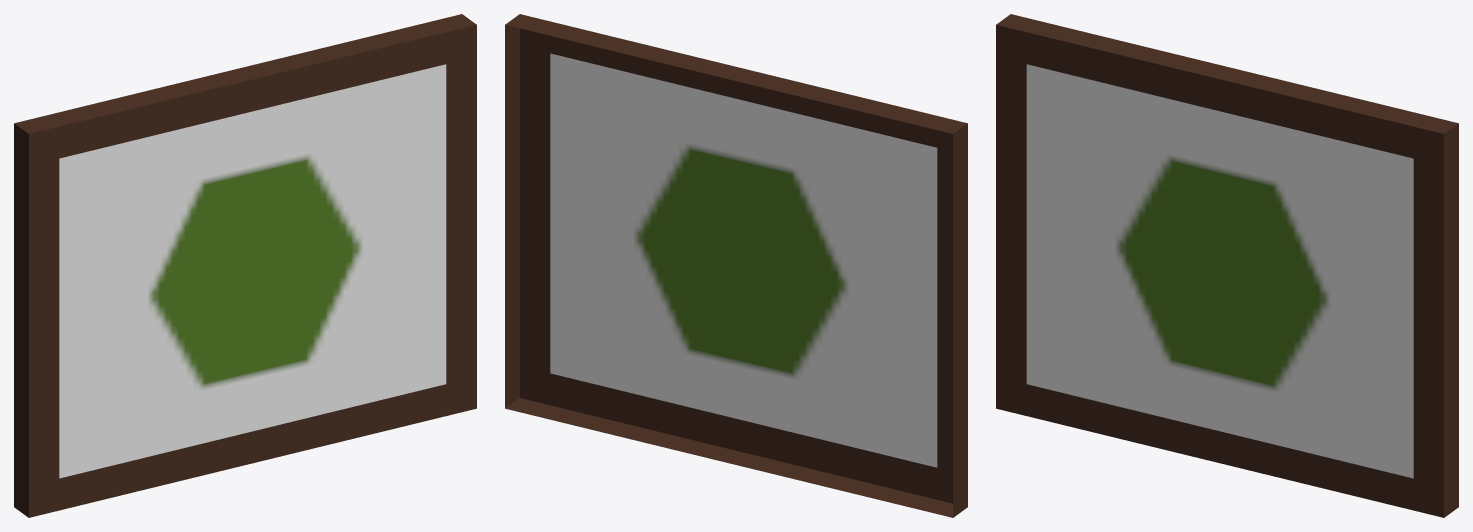
File: Paint_4.fbx
The picture shows the model from 3 angles, left to right: view 1: azimuth 30°, elevation 25°; view 2: azimuth 150°, elevation 25°; view 3: azimuth 330°, elevation 25°; orthographic projection.
Parts seen in each view (by area): view 1: polySurface1561; view 2: polySurface1561; view 3: polySurface1561.
Boxes of the visible parts, bbox=[...] form: polySurface1561: bbox=[14, 14, 476, 517]; polySurface1561: bbox=[505, 14, 967, 517]; polySurface1561: bbox=[996, 14, 1458, 517].
Size of the model in its own units: 1.41 by 1.15 by 0.08.
1 material, 1 textured.
